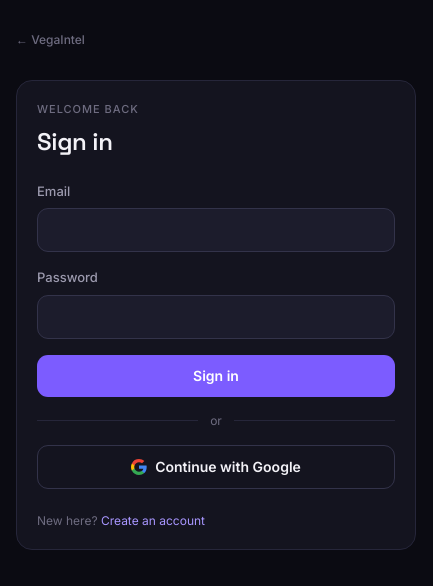
LoginPage › shows the invalid-credentials state without revealing which field was wrong
In the field labelled "Email": point(216, 230) top-left (37, 208), bottom-right (395, 252), type "a@example.com"
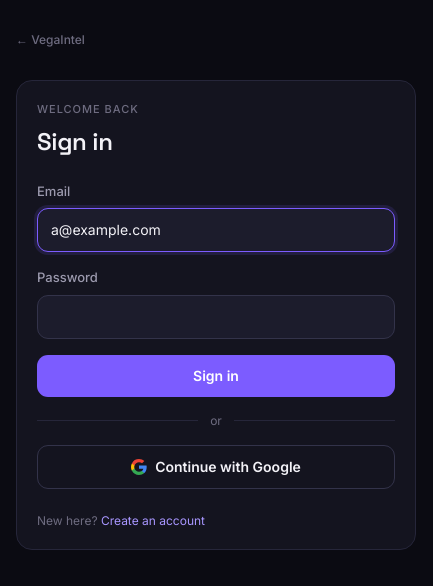
In the password field labelled "Password": point(216, 317) top-left (37, 295), bottom-right (395, 339), type "wrong"
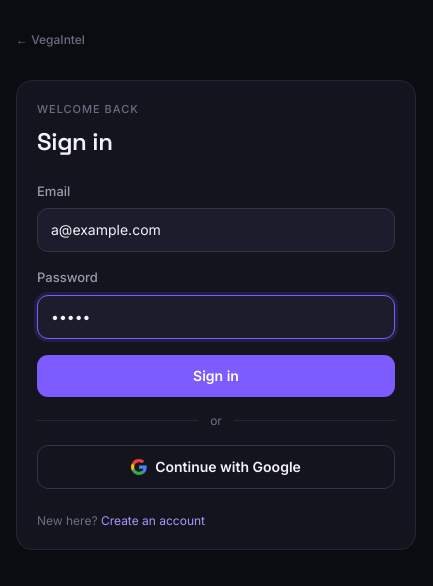
Click the button "Sign in": point(216, 376) top-left (37, 355), bottom-right (395, 397)
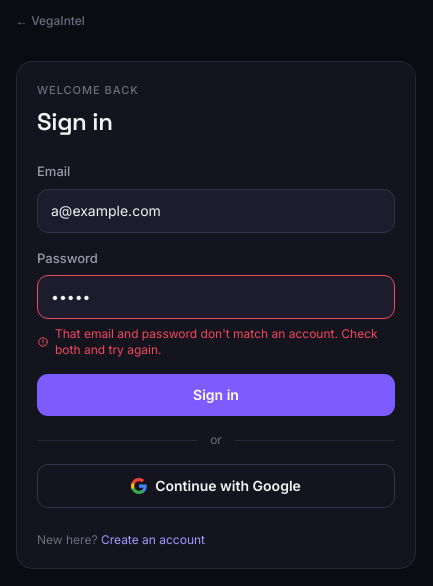
Expected: the text "don't match an account" is shown, top-left (55, 326), bottom-right (378, 357)
